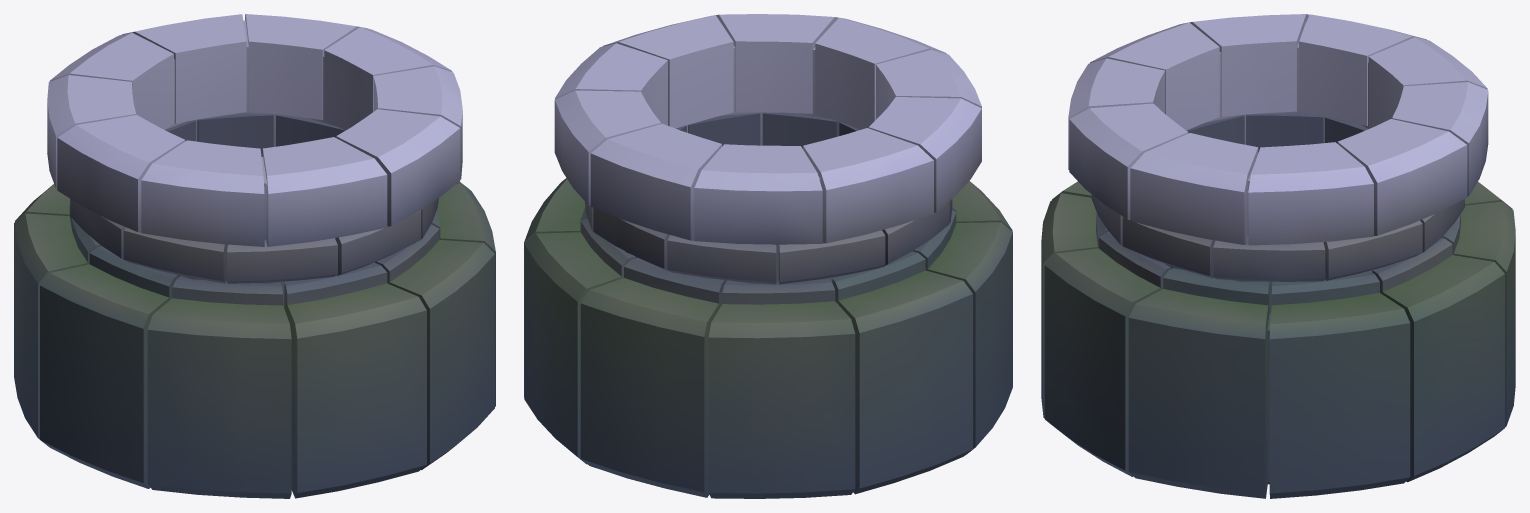
Rendered from Well.fbx.
3 views of the same model, side by side, from view 1: azimuth 30°, elevation 25°; view 2: azimuth 150°, elevation 25°; view 3: azimuth 270°, elevation 25° (orthographic).
Visible parts, largest first — view 1: Well; view 2: Well; view 3: Well.
Boxes of the visible parts, x1,y1,x2,y2 form: Well: [14, 14, 495, 498]; Well: [524, 14, 1012, 498]; Well: [1041, 14, 1515, 498].
Size of the model in its own units: 313 by 218 by 306.
